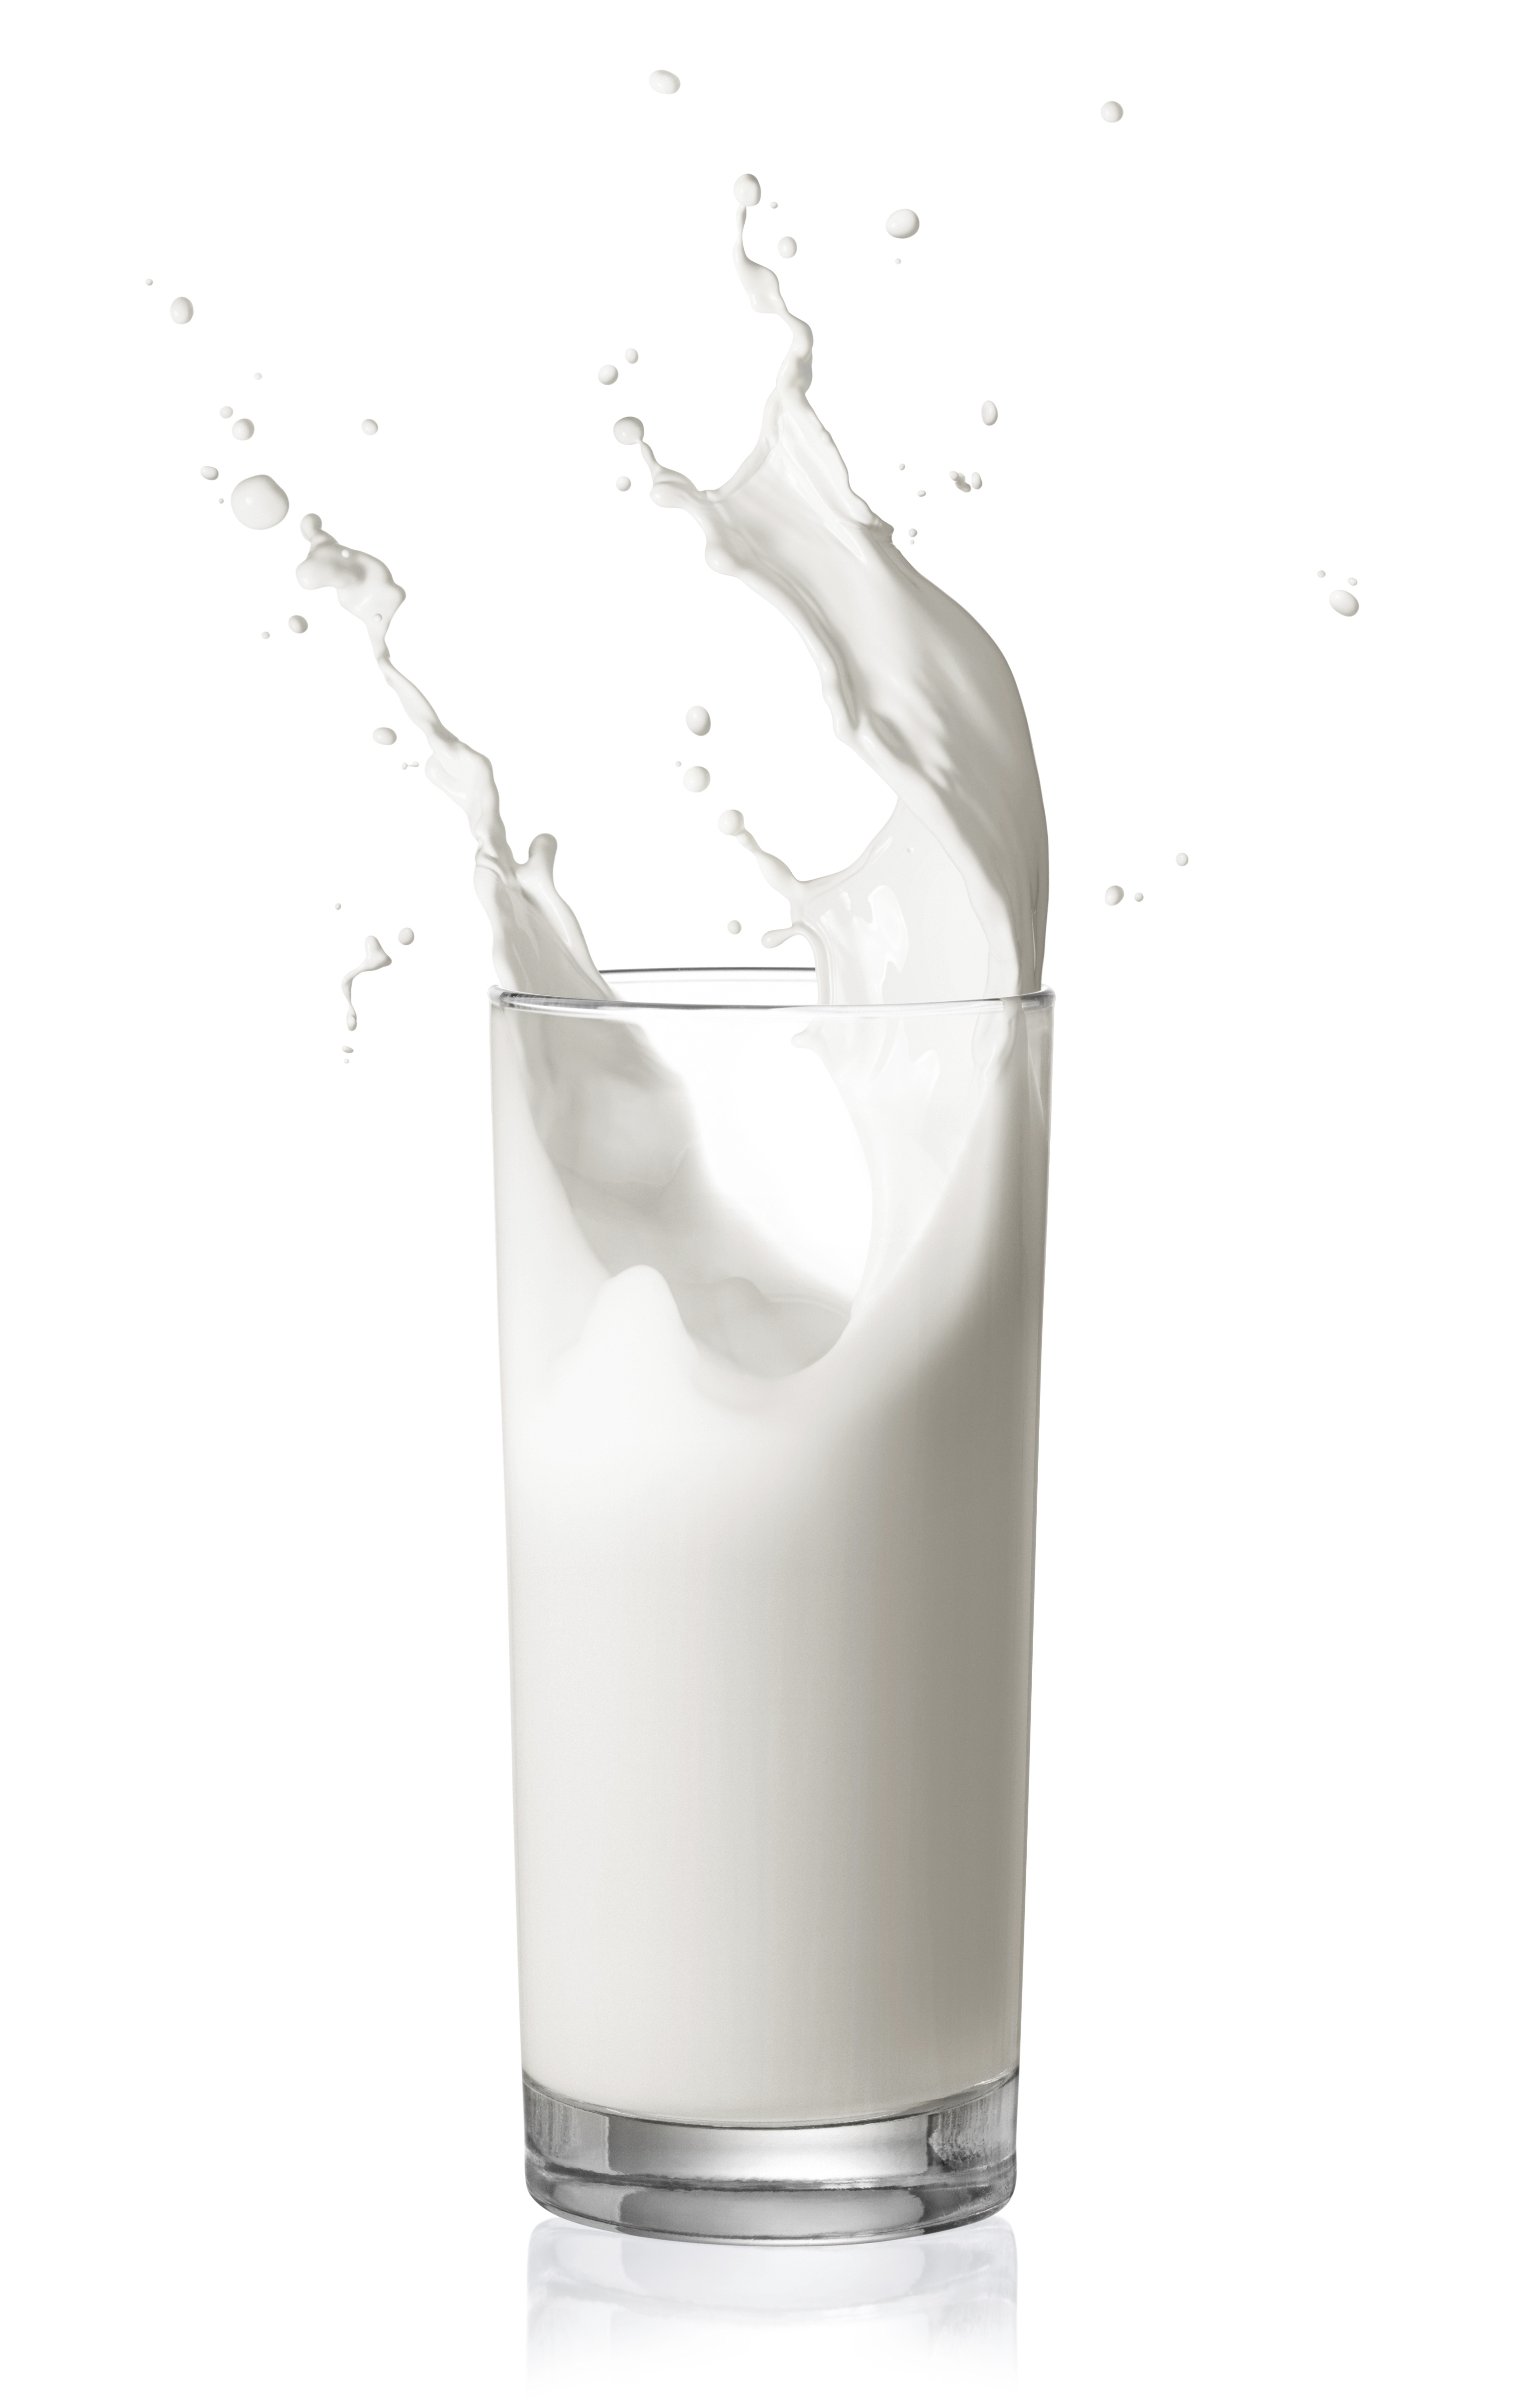glass of milk: (495, 978, 1017, 2245)
